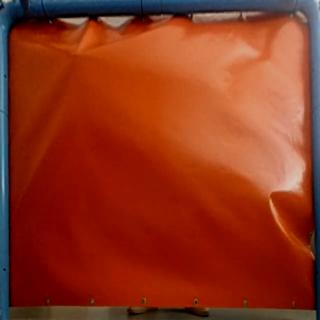Hit-hRxx: (70, 47, 88, 61)
